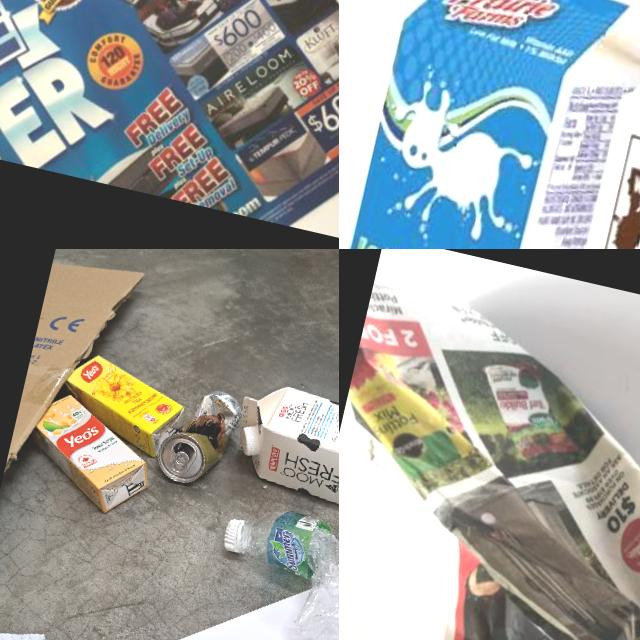aba de lata: (170, 451, 190, 476)
caixinha: (339, 0, 640, 249), (538, 0, 640, 249), (222, 376, 339, 544), (18, 388, 165, 520), (54, 348, 194, 460)
garrafa plástica: (225, 503, 339, 640)
lata: (153, 380, 245, 492)
papel: (339, 263, 640, 640), (0, 0, 339, 249), (93, 497, 339, 640)
papelão: (5, 252, 147, 489)
tampa plástica: (220, 516, 246, 554), (235, 426, 260, 458)
